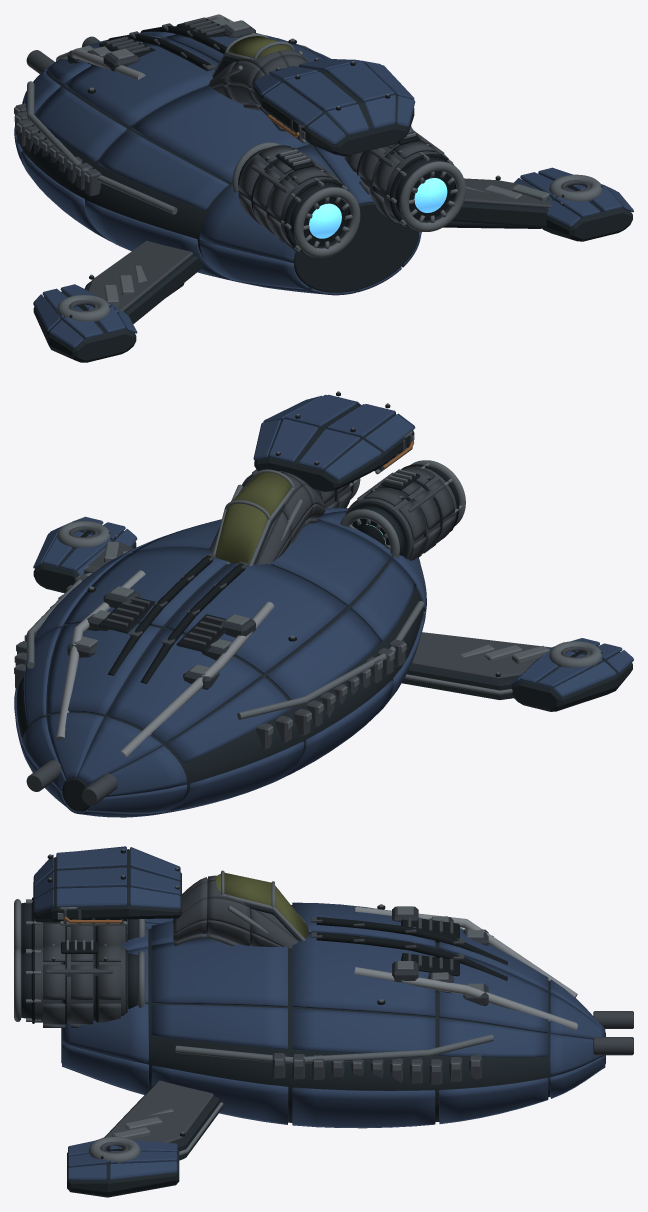
File: bigboy.glb
3 renders of one model, top to bottom at view 1: azimuth 30°, elevation 25°; view 2: azimuth 150°, elevation 25°; view 3: azimuth 270°, elevation 25°, orthographic. The views are drawn at different scales.
Visible parts, largest first — view 1: bigboy; view 2: bigboy; view 3: bigboy.
Part boxes in pixels (x1,y1,x2,y2): bigboy: [14, 14, 633, 362]; bigboy: [14, 391, 633, 817]; bigboy: [14, 846, 633, 1197].
Size of the model in its own units: 4.81 by 1.98 by 4.68.
